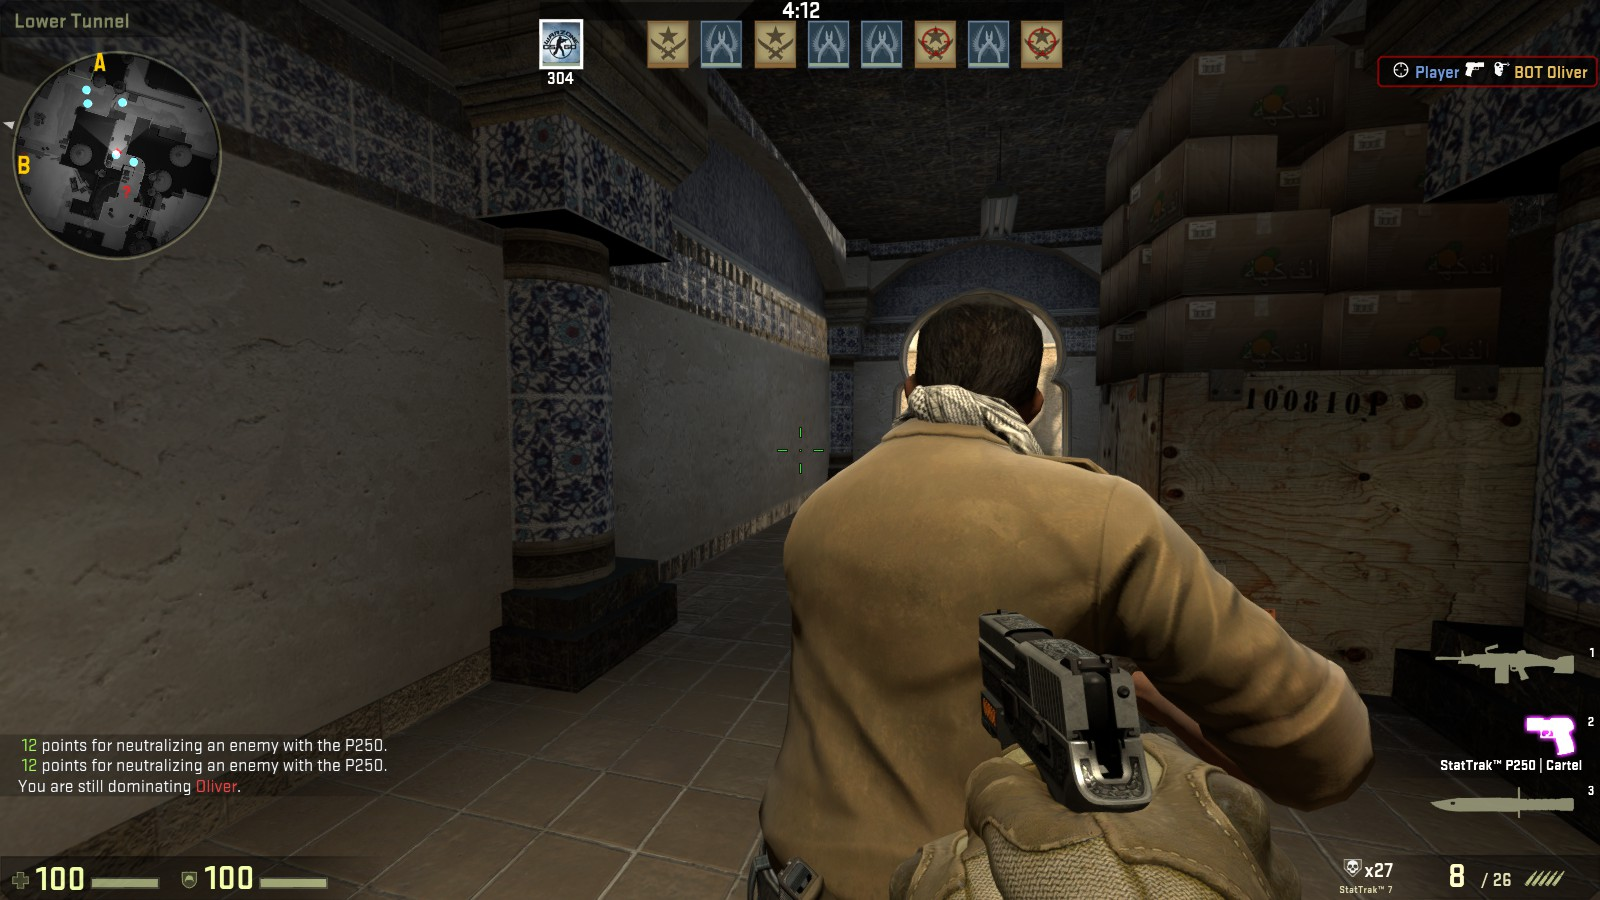t: (745, 296, 1326, 900)
th: (886, 287, 1068, 460)
